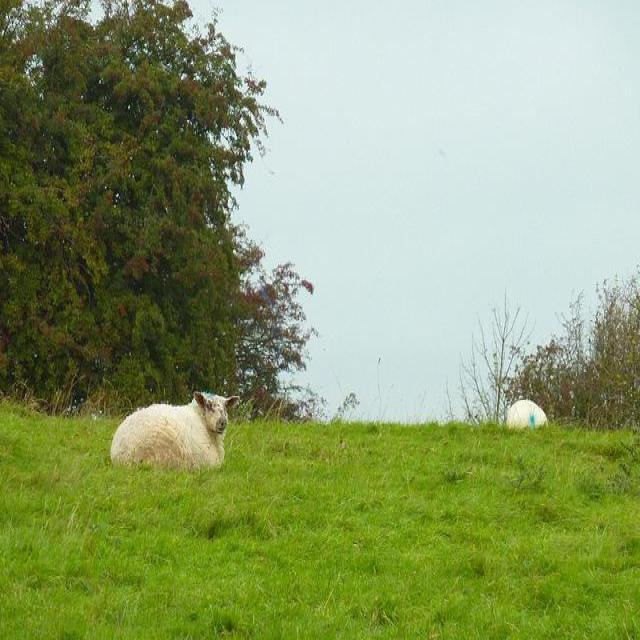Sheep: (110, 392, 241, 469)
